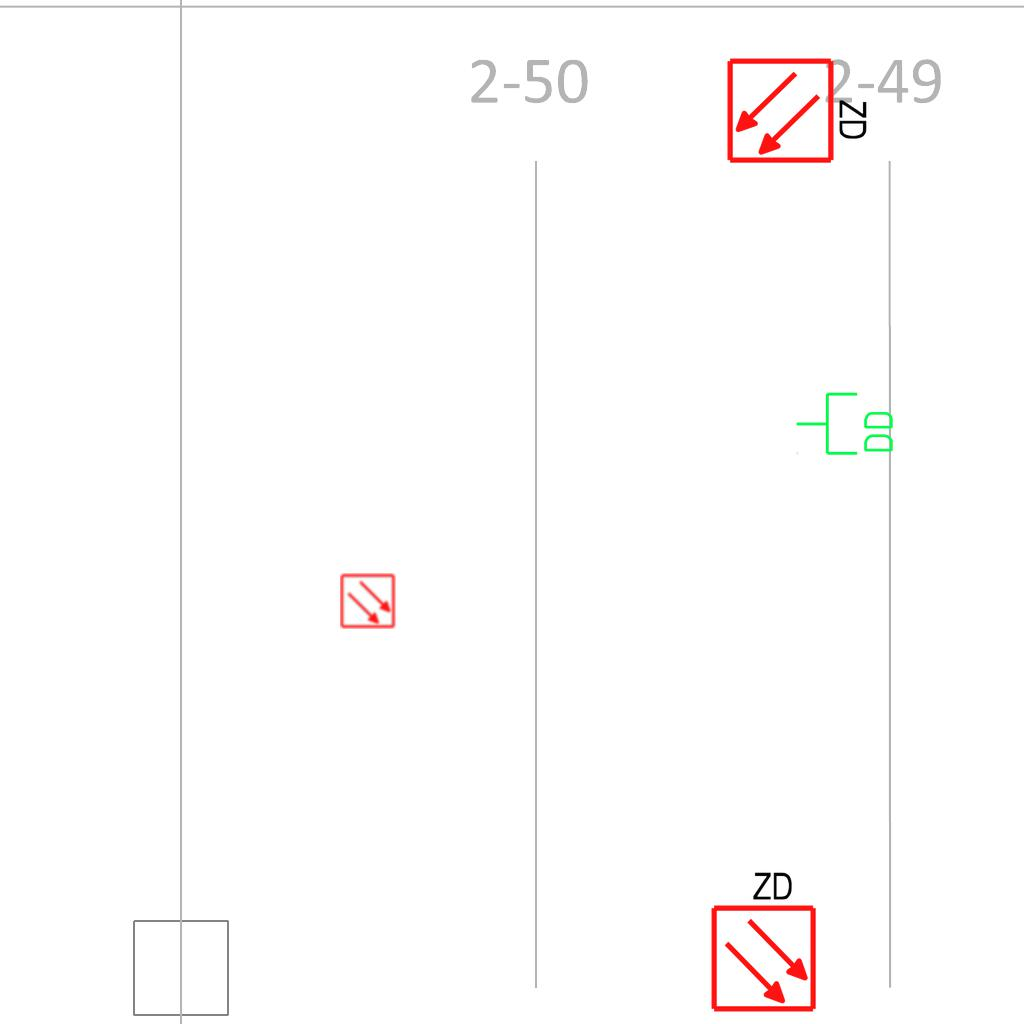Datenanschluss_zweifach: (794, 390, 897, 459)
RMO_Rauchmelder_optischer: (340, 573, 396, 629)
ZD_Melder_in_Zwischendecke_mit_Revisionsoeffnung_mind_40_x_40_cm: (725, 52, 874, 166), (705, 865, 819, 1014)
